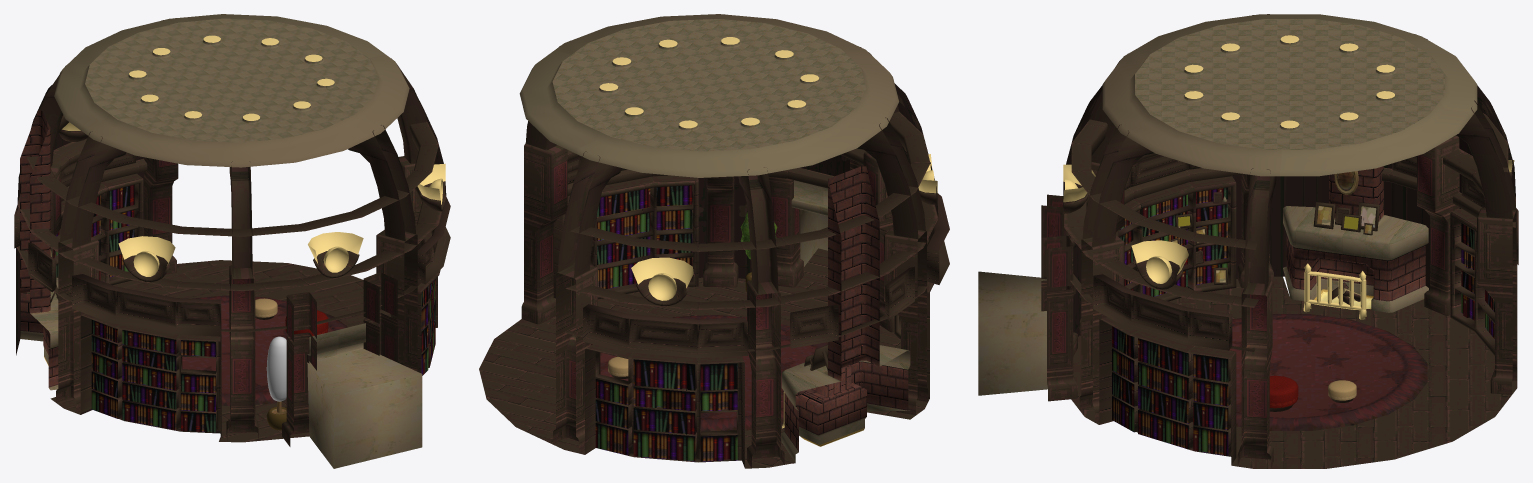
Rendered from the-library.gltf.
3 renders of one model, left to right at view 1: azimuth 30°, elevation 25°; view 2: azimuth 150°, elevation 25°; view 3: azimuth 270°, elevation 25°, orthographic. The views are drawn at different scales.
Parts seen in each view (by area): view 1: Library Roof, Wall Frames, Pillars, Bookshelf 2, Entrance Exit, Library Floor, Fireplace, Wall Lamps, Bookshelf 3, Carpet, Bookshelf 1, Flower B (+2 smaller); view 2: Library Roof, Wall Frames, Pillars, Fireplace, Bookshelf 3, Library Floor, Bookshelf 1, Library Walls, Wall Lamps, Carpet, Entrance Exit, Roof Lamps (+1 smaller); view 3: Library Roof, Wall Frames, Pillars, Library Floor, Bookshelf 1, Carpet, Fireplace, Entrance Exit, Bookshelf 2, Library Walls, Bookshelf 3, Wall Lamps (+5 smaller).
Boxes of the visible parts, x1=… form: Library Roof: x1=54, y1=14, x2=409, y2=167; Wall Frames: x1=14, y1=18, x2=450, y2=336; Pillars: x1=50, y1=156, x2=434, y2=446; Bookshelf 2: x1=80, y1=314, x2=221, y2=440; Entrance Exit: x1=307, y1=323, x2=422, y2=468; Library Floor: x1=50, y1=260, x2=390, y2=442; Fireplace: x1=20, y1=110, x2=58, y2=390; Wall Lamps: x1=59, y1=122, x2=445, y2=282; Bookshelf 3: x1=50, y1=173, x2=143, y2=285; Carpet: x1=182, y1=295, x2=347, y2=405; Bookshelf 1: x1=417, y1=232, x2=440, y2=375; Flower B: x1=266, y1=336, x2=286, y2=430; Library Roof: x1=519, y1=14, x2=898, y2=177; Wall Frames: x1=525, y1=46, x2=949, y2=357; Pillars: x1=521, y1=143, x2=928, y2=468; Fireplace: x1=781, y1=166, x2=910, y2=462; Bookshelf 3: x1=585, y1=344, x2=744, y2=467; Library Floor: x1=479, y1=248, x2=929, y2=468; Bookshelf 1: x1=553, y1=175, x2=698, y2=299; Library Walls: x1=698, y1=83, x2=938, y2=278; Wall Lamps: x1=631, y1=154, x2=937, y2=306; Carpet: x1=590, y1=315, x2=827, y2=431; Entrance Exit: x1=791, y1=180, x2=827, y2=266; Roof Lamps: x1=599, y1=37, x2=818, y2=128; Library Roof: x1=1102, y1=14, x2=1477, y2=176; Wall Frames: x1=1064, y1=14, x2=1518, y2=351; Pillars: x1=1041, y1=135, x2=1517, y2=467; Library Floor: x1=1071, y1=276, x2=1517, y2=468; Bookshelf 1: x1=1099, y1=317, x2=1236, y2=464; Carpet: x1=1229, y1=314, x2=1427, y2=430; Fireplace: x1=1283, y1=166, x2=1428, y2=312; Entrance Exit: x1=978, y1=271, x2=1047, y2=395; Bookshelf 2: x1=1115, y1=176, x2=1236, y2=301; Library Walls: x1=1062, y1=85, x2=1515, y2=336; Bookshelf 3: x1=1450, y1=208, x2=1517, y2=367; Wall Lamps: x1=1063, y1=160, x2=1514, y2=289.
Size of the model in its own units: 17.91 by 12.66 by 21.12.
